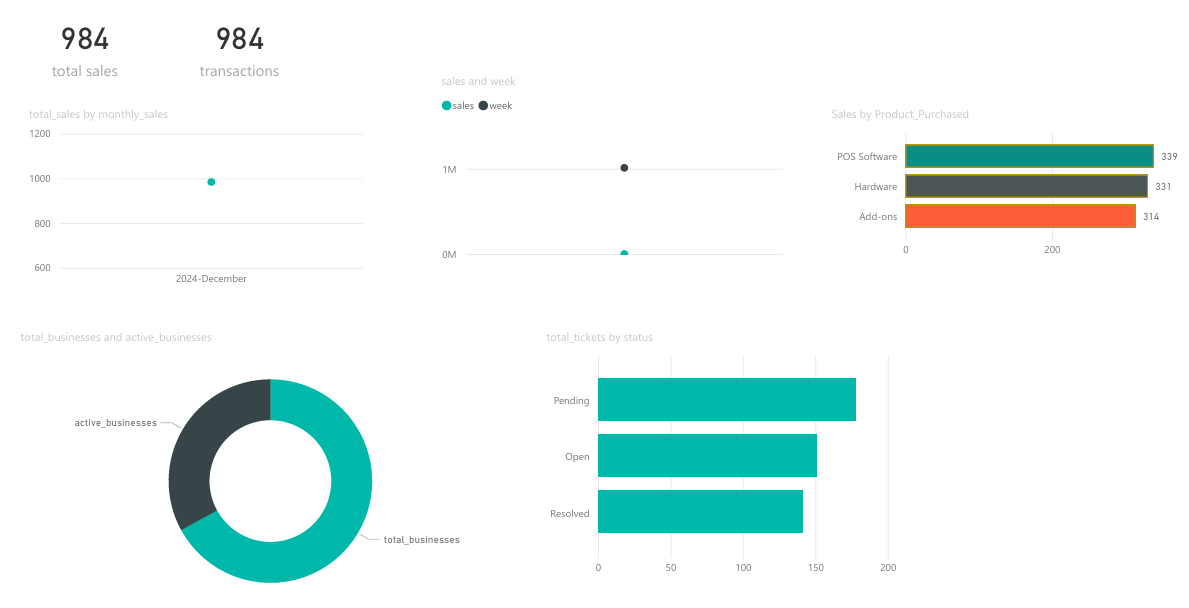

The page's visual inventory and layout, read from the dashboard file:
{"tool":"powerbi","page":{"name":"Page 1","canvas":[1280,720],"ordinal":0},"visuals":[{"type":"card","title":"Total Sales","fields":{"Values":["Sum(pos_analysis total_sales_transactions.total sales)"]},"box":[25.6,45.9,147.1,128.2],"z":0},{"type":"card","fields":{"Values":["Sum(pos_analysis total_sales_transactions.total_transactions)"]},"box":[199.7,45.9,129.5,128.2],"z":1000},{"type":"clusteredBarChart","fields":{"Category":["pos_analysis sales_by_product.Product_Purchased"],"Y":["Sum(pos_analysis sales_by_product.total_sales)"]},"box":[890.6,174.1,390,171.4],"z":2000},{"type":"lineChart","fields":{"Category":["pos_analysis monthly_sales.monthly_sales"],"Y":["Sum(pos_analysis monthly_sales.total_sales)"]},"box":[35.1,174.1,365.7,201.1],"z":3000},{"type":"donutChart","fields":{"Y":["Sum(pos_analysis active_vs_inactive_businesses.total_businesses)","Sum(pos_analysis active_vs_inactive_businesses.active_businesses)"]},"box":[25.6,411.6,543.8,309],"z":4000},{"type":"barChart","fields":{"Category":["pos_analysis support_ticket_status.status"],"Y":["Sum(pos_analysis support_ticket_status.total_tickets)"]},"box":[587,411.6,383.2,272.6],"z":5000},{"type":"lineChart","fields":{"Y":["Sum(pos_analysis weekly_sales.total_sales)","Sum(pos_analysis weekly_sales.sales_week)"]},"box":[475,139,373.8,206.5],"z":6000}]}

Visuals, with their boxes on the page's 1280x720 design canvas (x1, y1, x2, y2). These are canvas units, not pixel positions in the 1189x608 screenshot, which may show the page scaled, cropped or inside an application window:
"Total Sales" card: crop(26, 46, 173, 174)
card - Sum(pos_analysis total_sales_transactions.total_transactions): crop(200, 46, 329, 174)
clusteredBarChart - pos_analysis sales_by_product.Product_Purchased x Sum(pos_analysis sales_by_product.total_sales): crop(891, 174, 1281, 346)
lineChart - pos_analysis monthly_sales.monthly_sales x Sum(pos_analysis monthly_sales.total_sales): crop(35, 174, 401, 375)
donutChart - Sum(pos_analysis active_vs_inactive_businesses.total_businesses) x Sum(pos_analysis active_vs_inactive_businesses.active_businesses): crop(26, 412, 569, 721)
barChart - pos_analysis support_ticket_status.status x Sum(pos_analysis support_ticket_status.total_tickets): crop(587, 412, 970, 684)
lineChart - Sum(pos_analysis weekly_sales.total_sales) x Sum(pos_analysis weekly_sales.sales_week): crop(475, 139, 849, 346)
